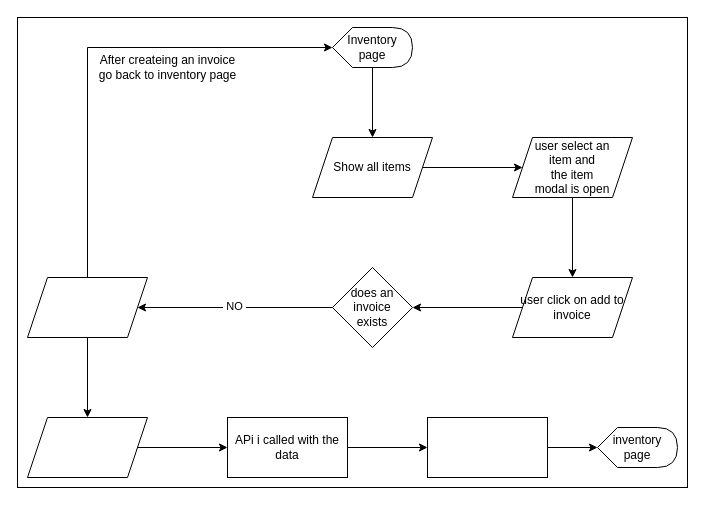
Image size: 705x505. Some labels were removed from this diagram. Here are the shapes that lost their labels. From the top down, the centre of each, then its label:
pixel 87 307: No invoice exists please create an invoice first
pixel 87 447: user select an amount
pixel 487 447: data is saved in the database
